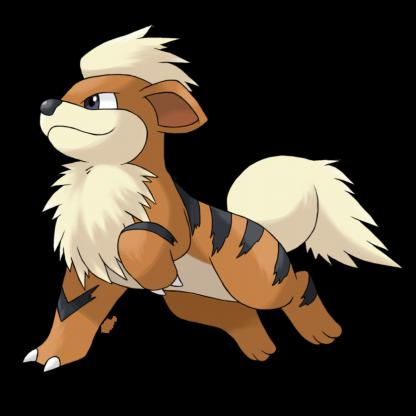Growlithe: (30, 31, 403, 382)
